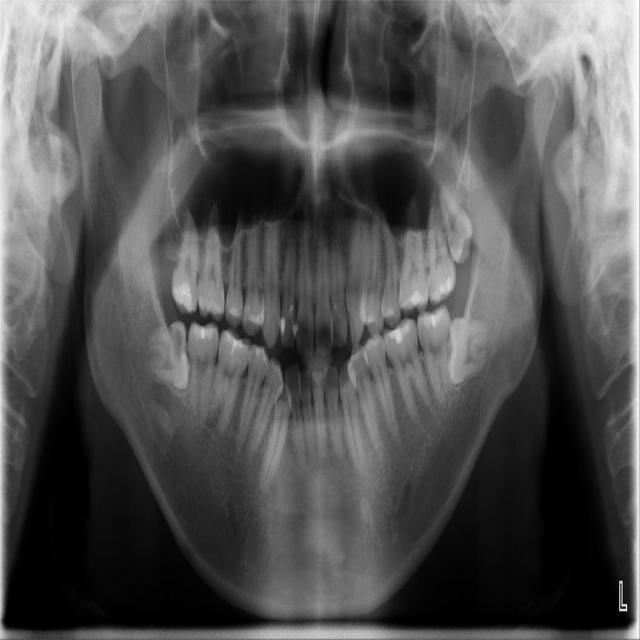52: (374, 314, 432, 372), (413, 304, 457, 354), (424, 250, 460, 308), (217, 327, 253, 379), (396, 267, 432, 317), (185, 320, 221, 368), (170, 264, 199, 316), (329, 297, 349, 351), (296, 301, 314, 359), (280, 299, 296, 350)
73: (604, 581, 614, 595)
BioHorizons Implant: (427, 192, 456, 306)
BioLife Implant: (432, 179, 481, 264)
Biomet 3i Implant: (446, 317, 489, 388)
Blue Sky Bio Implant: (415, 304, 459, 407)
Caries: (170, 210, 199, 316)
Implant: (187, 320, 219, 421)
Keystone Dental Implant: (144, 320, 192, 393)
